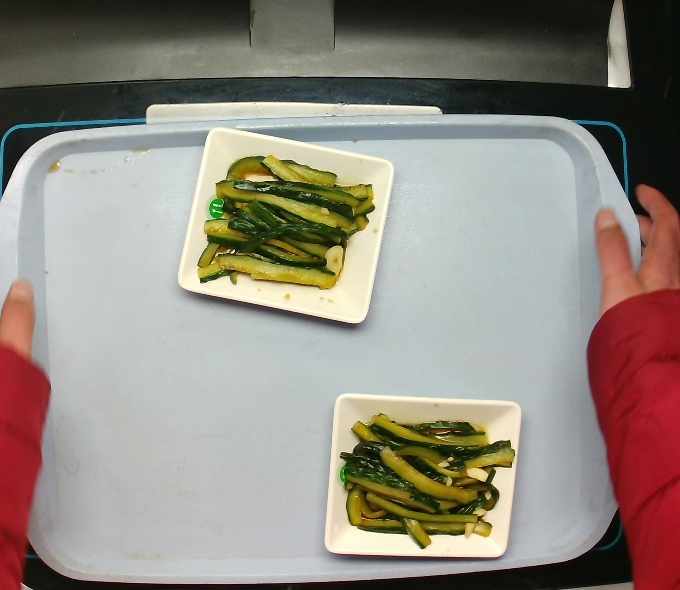wcq-LiangBanHuangGua: (196, 154, 378, 292), (339, 410, 516, 550)
